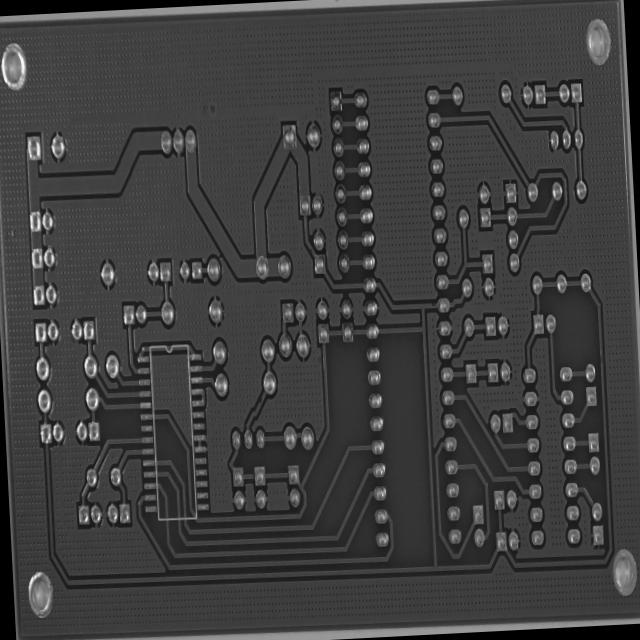mouse_bite: (256, 392, 264, 408), (306, 245, 314, 258), (430, 298, 437, 311)
